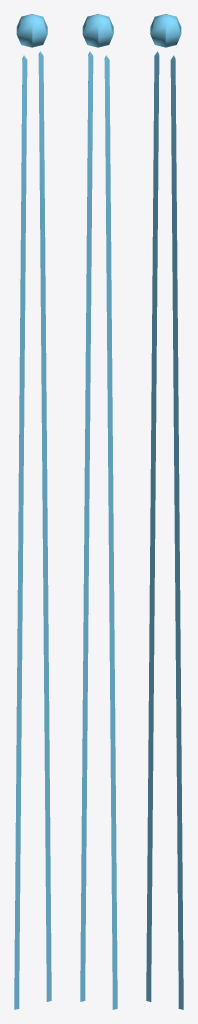
Rendered from fxlib-glow.glb.
3 renders of one model, left to right at view 1: azimuth 30°, elevation 25°; view 2: azimuth 150°, elevation 25°; view 3: azimuth 330°, elevation 25°, orthographic.
Visible parts, largest first — view 1: Edge; view 2: Edge; view 3: Edge.
Boxes of the visible parts, <box> form: Edge: <box>14,14,51,1009</box>; Edge: <box>80,14,117,1009</box>; Edge: <box>146,14,183,1009</box>.
Bounding box in the file's own units: 0.029 × 0.732 × 0.0208.
